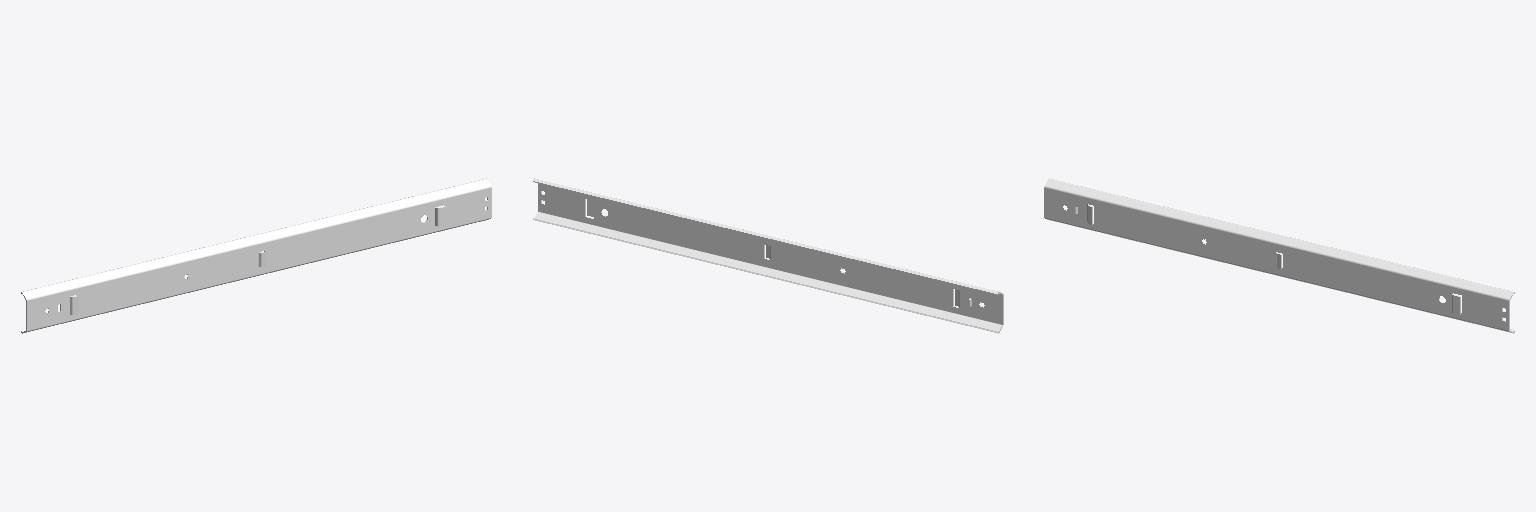
URDF robot description (slide):
<?xml version="1.0" ?>
<robot name="slide">
  <link name="base_link">
    <contact>
      <lateral_friction value="0.5"/>
      <rolling_friction value="0.001"/>
      <contact_cfm value="0.0"/>
      <contact_erp value="1.0"/>
    </contact>
    <inertial>
      <origin rpy="0 0 0" xyz="0 0 0"/>
      <mass value="1.0"/>
      <inertia ixx="0.001" ixy="0" ixz="0" iyy="0.001" iyz="0" izz="0.001"/>
    </inertial>
    <visual>
      <origin rpy="0 0 0" xyz="0 0 0"/>
      <geometry>
        <mesh filename="slide.obj" scale="1 1 1"/>
      </geometry>
      <material name="white">
        <color rgba="1 1 1 1"/>
      </material>
    </visual>
    <collision>
      <origin rpy="0 0 0" xyz="0 0 0"/>
      <geometry>
        <mesh filename="slide.obj" scale="1 1 1"/>
      </geometry>
    </collision>
  </link>
</robot>

--- Facts derived from the render (not from the file) ---
3 views of the same robot in one strip: view 1: azimuth 30°, elevation 25°; view 2: azimuth 150°, elevation 25°; view 3: azimuth 330°, elevation 25° (orthographic).
Model slide with 1 links and 0 joints (none), rooted at base_link, posed every joint at zero.
Links seen in each view (by area): view 1: base_link; view 2: base_link; view 3: base_link.
Boxes of the visible links, <box> form: base_link: <box>21,178,491,333</box>; base_link: <box>533,178,1003,333</box>; base_link: <box>1044,178,1514,333</box>.
Size in the robot's own frame: 0.672 by 0.0204 by 0.057 metres.
1 mesh visuals loaded from 1 distinct referenced files (1 OBJ).